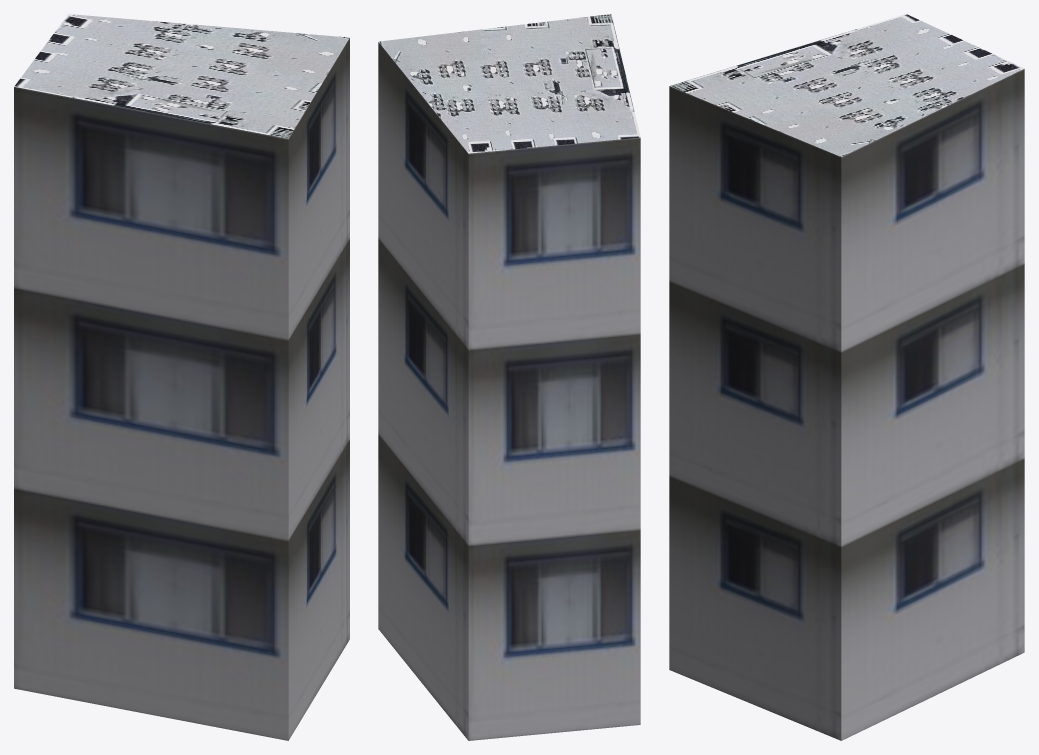
Rendered from ResTex__3537.fbx.
3 views of the same model, side by side, from view 1: azimuth 30°, elevation 25°; view 2: azimuth 150°, elevation 25°; view 3: azimuth 270°, elevation 25° (orthographic). The views are drawn at different scales.
Visible parts, largest first — view 1: CityEngineMaterial_9_m, CityEngineMaterial_4_m; view 2: CityEngineMaterial_9_m, CityEngineMaterial_4_m; view 3: CityEngineMaterial_9_m, CityEngineMaterial_4_m.
Part boxes in pixels (box(x1,y1,x2,y2)): CityEngineMaterial_9_m: box(14, 38, 349, 740); CityEngineMaterial_4_m: box(14, 14, 349, 138); CityEngineMaterial_9_m: box(378, 42, 640, 740); CityEngineMaterial_4_m: box(378, 14, 640, 153); CityEngineMaterial_9_m: box(669, 69, 1024, 740); CityEngineMaterial_4_m: box(669, 14, 1024, 156).
Size of the model in its own units: 4.73 by 9 by 4.97.
Materials: 2 (2 with a texture image).
